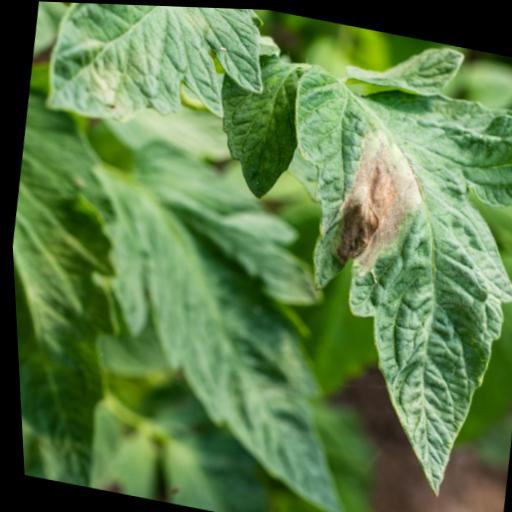Late Blight: (226, 13, 512, 512), (26, 1, 276, 147)
